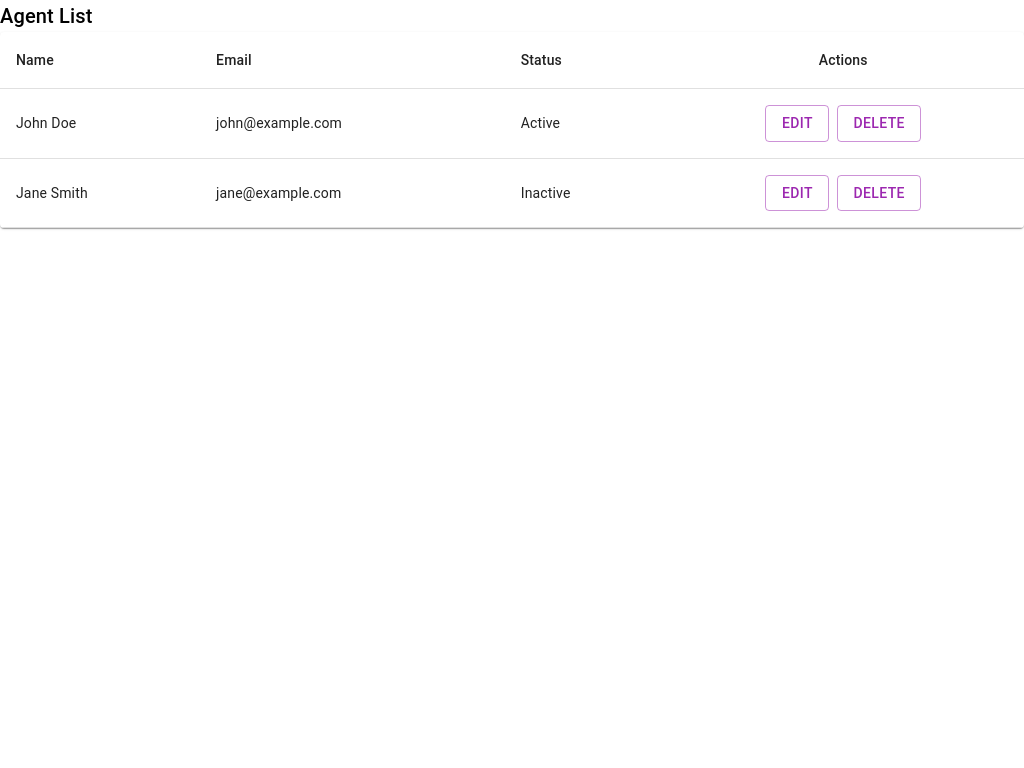
Test: AgentList › opens edit form when Edit button is clicked
Click the button "Edit" in the row of "John Doe".
click(797, 123)  # box [765,105,829,142]
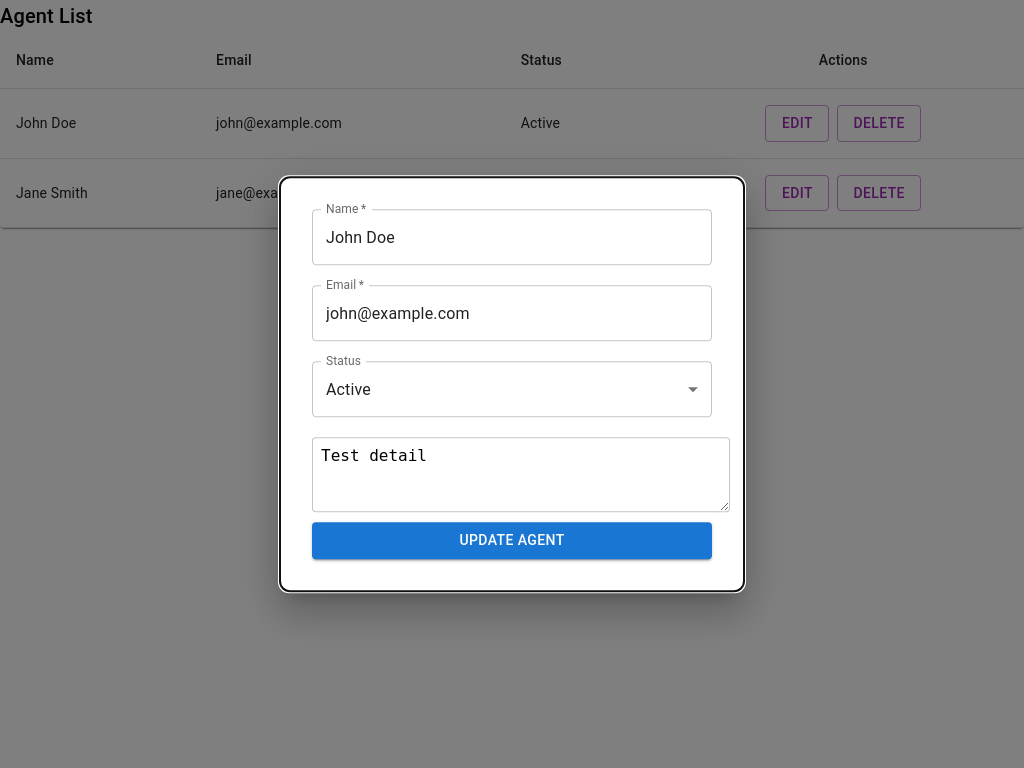
Result: the button "Update Agent" is shown at [312,522,712,559]
